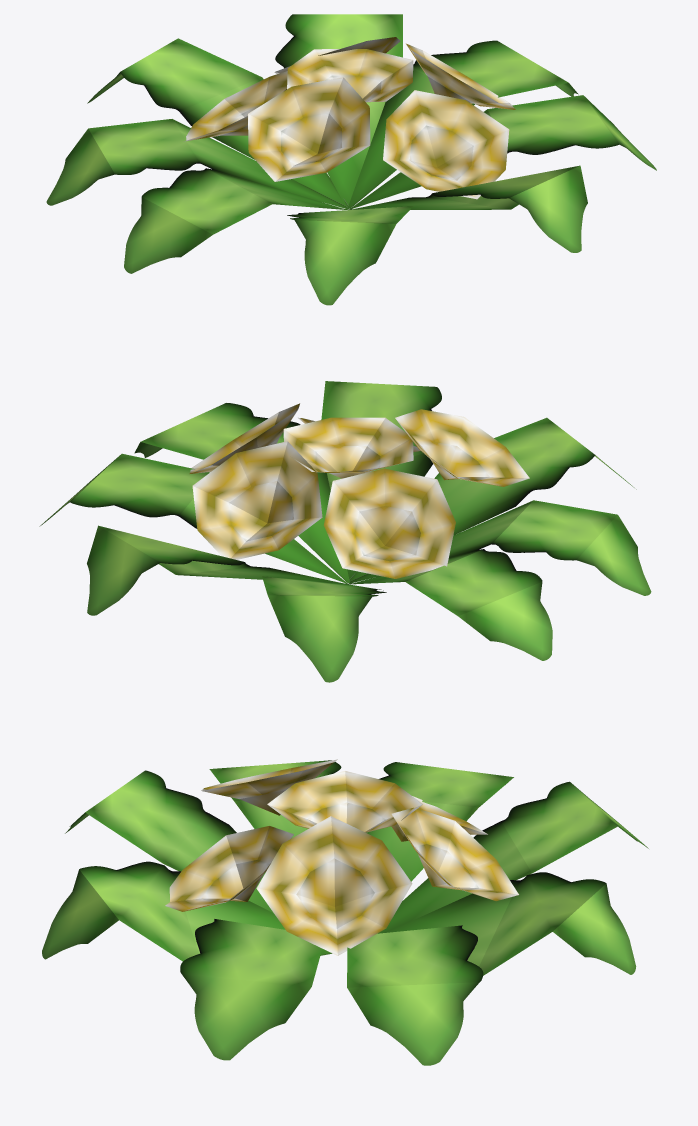
Rendered from Poly_Weed_Plant_04.obj.
The picture shows the model from 3 angles, top to bottom: view 1: azimuth 30°, elevation 25°; view 2: azimuth 150°, elevation 25°; view 3: azimuth 270°, elevation 25°; orthographic projection. The views are drawn at different scales.
Parts seen in each view (by area): view 1: Plane.001, Cube.005, Cube.004, Cube, Cube.003, Cube.001, Cube.002; view 2: Plane.001, Cube.003, Cube.002, Cube, Cube.004, Cube.001; view 3: Plane.001, Cube.001, Cube, Cube.005, Cube.002, Cube.004, Cube.003.
Part boxes in pixels (box(x1,y1,x2,y2)): Plane.001: box(46, 14, 656, 305); Cube.005: box(383, 90, 509, 199); Cube.004: box(248, 77, 370, 181); Cube: box(287, 49, 413, 102); Cube.003: box(184, 71, 287, 141); Cube.001: box(406, 43, 515, 109); Cube.002: box(274, 37, 400, 74); Plane.001: box(39, 381, 651, 682); Cube.003: box(323, 468, 455, 578); Cube.002: box(192, 441, 322, 559); Cube: box(283, 417, 413, 478); Cube.004: box(395, 409, 529, 486); Cube.001: box(189, 403, 299, 473); Plane.001: box(42, 760, 648, 1065); Cube.001: box(256, 816, 412, 955); Cube: box(267, 771, 422, 832); Cube.005: box(165, 826, 293, 911); Cube.002: box(391, 807, 518, 901); Cube.004: box(201, 759, 337, 815); Cube.003: box(391, 796, 487, 841).
Bounding box in the file's own units: 0.8491 × 0.228 × 0.7913.
1 material, 1 textured.
